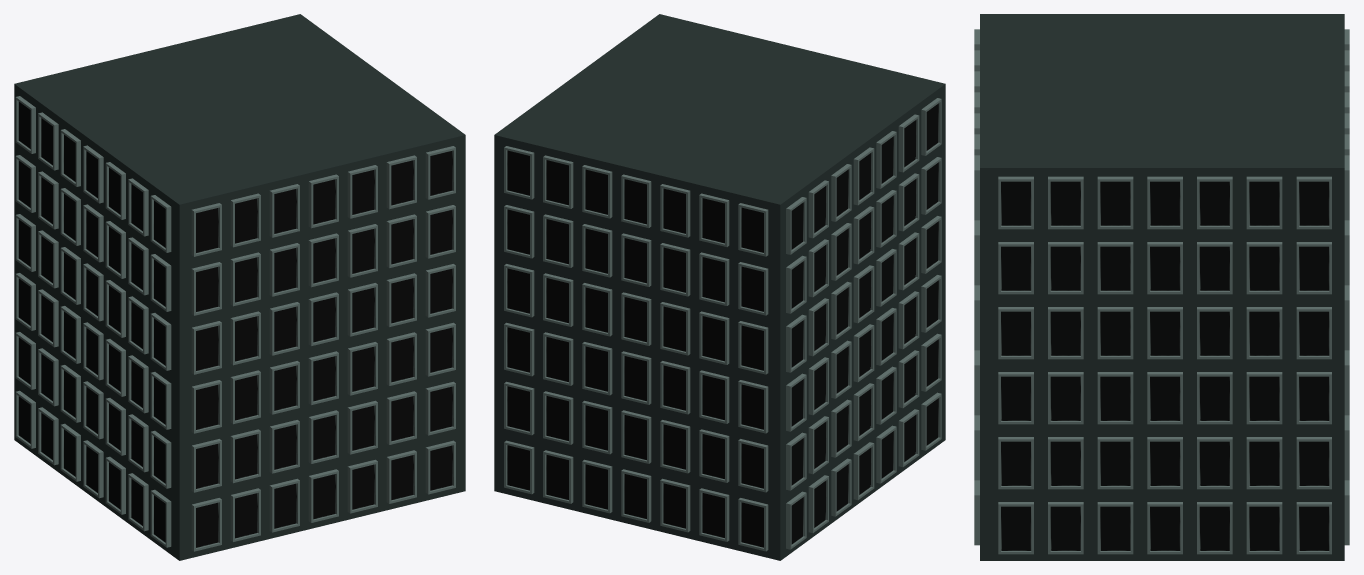
Rendered from building3.fbx.
3 renders of one model, left to right at view 1: azimuth 30°, elevation 25°; view 2: azimuth 150°, elevation 25°; view 3: azimuth 270°, elevation 25°, orthographic. The views are drawn at different scales.
Visible parts, largest first — view 1: bina_3; view 2: bina_3; view 3: bina_3.
Part boxes in pixels (left/top/right/bottom): bina_3: left=14, top=14, right=465, bottom=560; bina_3: left=494, top=14, right=945, bottom=560; bina_3: left=974, top=14, right=1349, bottom=560.
Bounding box in the file's own units: 308 × 355 × 307.
